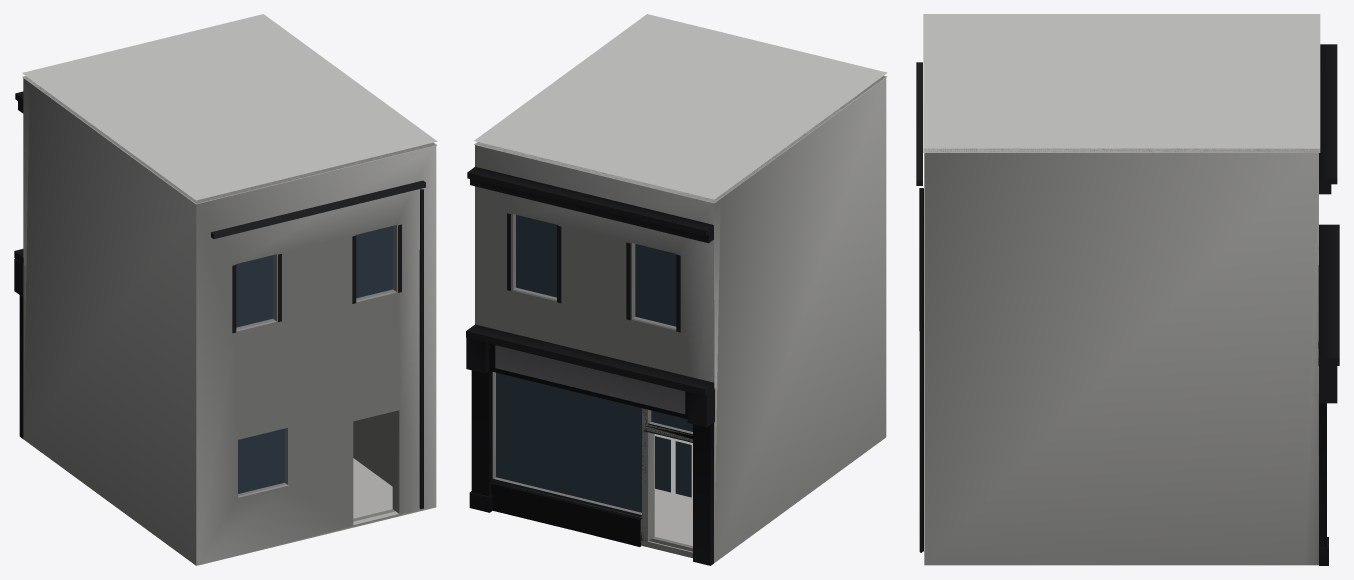
The model's file is barber-shop_mirror.glb.
3 views of the same model, side by side, from view 1: azimuth 30°, elevation 25°; view 2: azimuth 150°, elevation 25°; view 3: azimuth 270°, elevation 25° (orthographic). The views are drawn at different scales.
Visible parts, largest first — view 1: barber-shop_mirror; view 2: barber-shop_mirror; view 3: barber-shop_mirror.
Boxes of the visible parts, x1=… form: barber-shop_mirror: x1=14, y1=14, x2=437, y2=565; barber-shop_mirror: x1=466, y1=14, x2=887, y2=565; barber-shop_mirror: x1=916, y1=14, x2=1339, y2=565.
Size of the model in its own units: 5.25 by 7.58 by 6.98.
